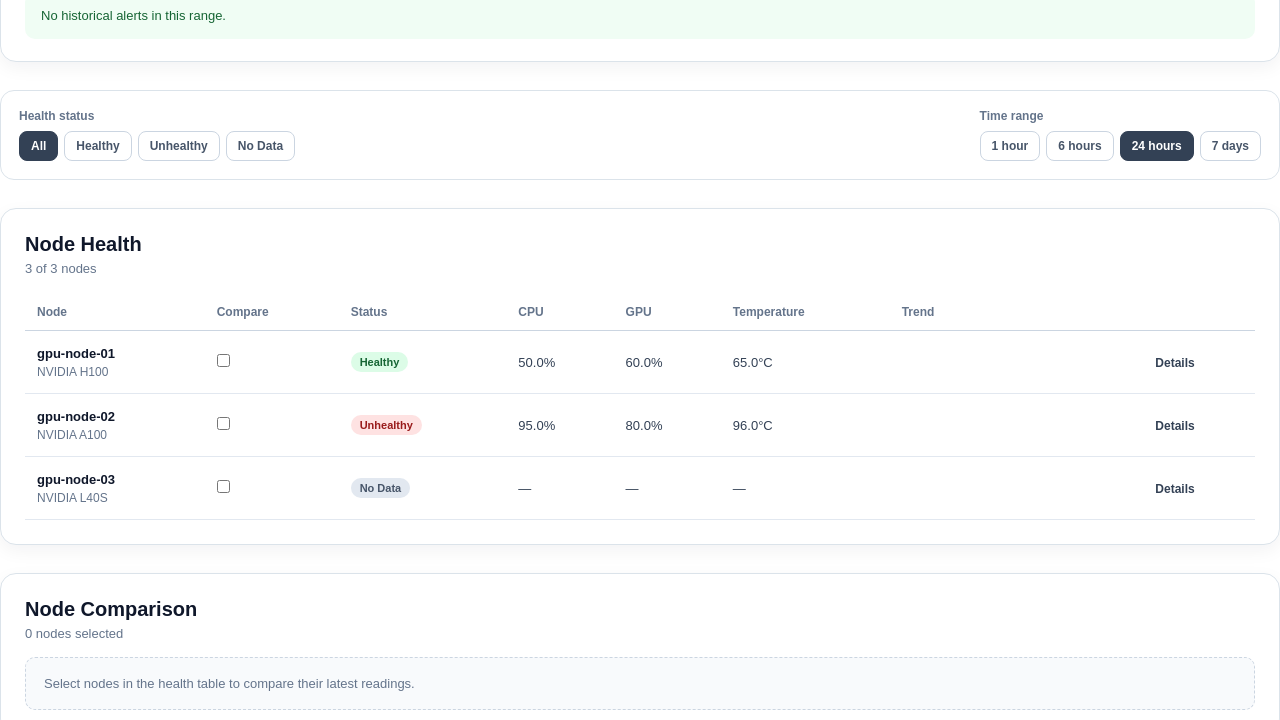
it: HealthDashboard › updates the comparison when a node is deselected
(page scrolled)
Click the checkbox named "Compare gpu-node-01".
click(223, 360)  # box [217, 354, 230, 367]
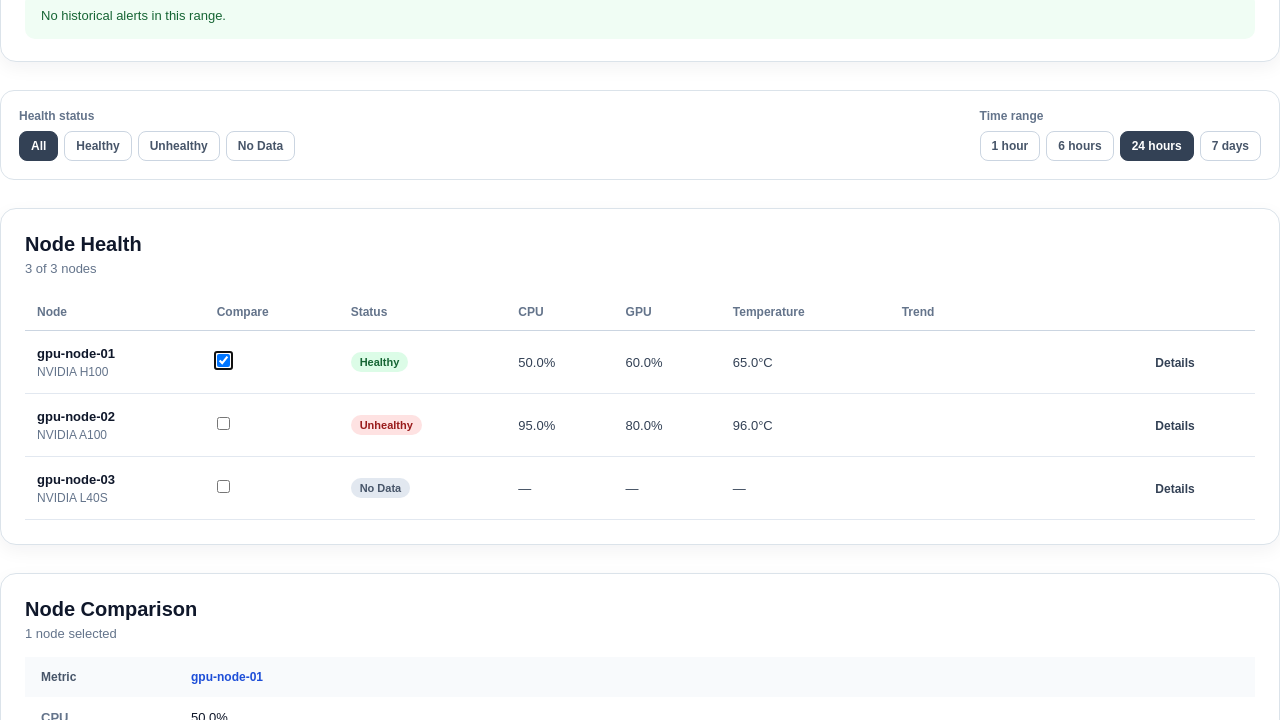
Expected: the table named "Node comparison" shows "gpu-node-01", [191, 670, 263, 684]
Click the checkbox named "Compare gpu-node-01".
click(223, 360)  # box [217, 354, 230, 367]
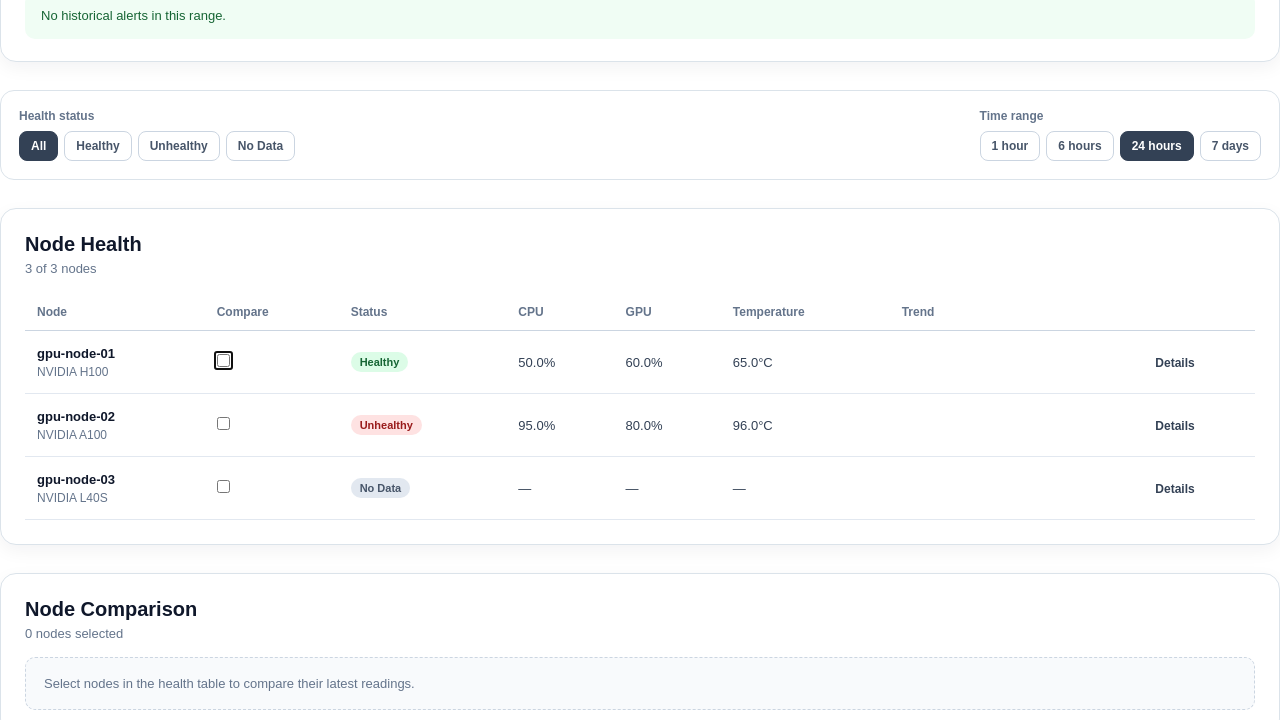
Expected: the text "Select nodes in the health table to compare their latest readings." is shown, [25, 657, 1255, 710]
